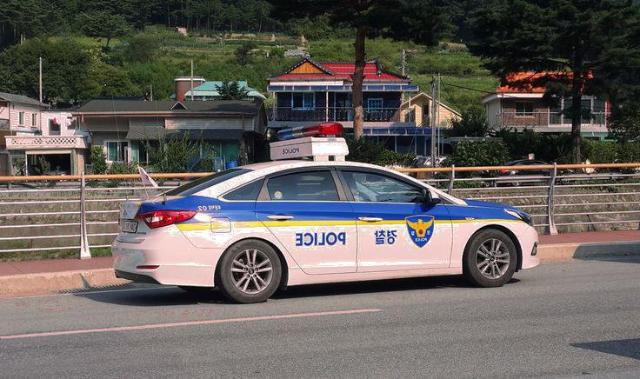police_car: (111, 123, 541, 293)
